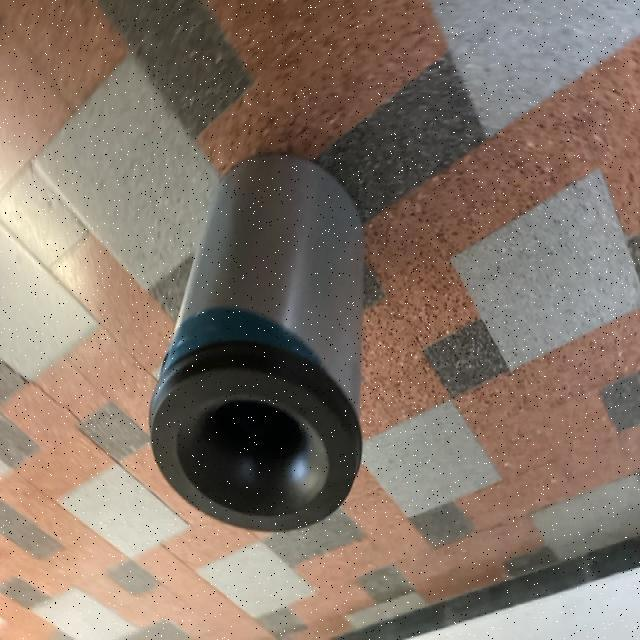garbage container: (143, 144, 395, 556)
